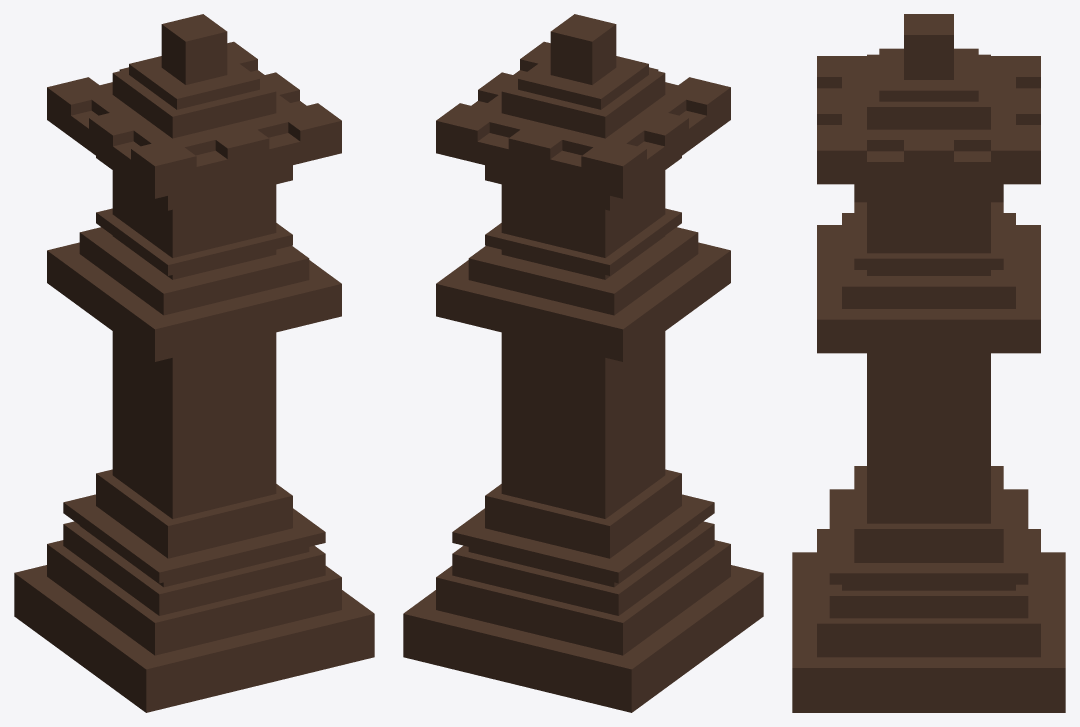
File: black_queen.glb
3 views of the same model, side by side, from view 1: azimuth 30°, elevation 25°; view 2: azimuth 150°, elevation 25°; view 3: azimuth 270°, elevation 25° (orthographic). The views are drawn at different scales.
Parts seen in each view (by area): view 1: Untitled; view 2: Untitled; view 3: Untitled.
Part boxes in pixels (x1,y1,x2,y2): Untitled: (14, 14, 374, 712); Untitled: (403, 14, 763, 712); Untitled: (792, 14, 1065, 712).
Bounding box in the file's own units: 0.66 × 1.68 × 0.66.
1 material, 1 textured.
